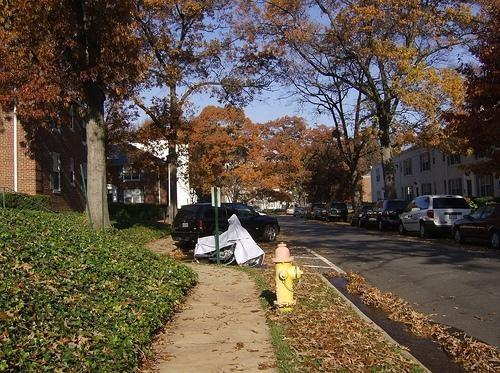car: (170, 201, 280, 250), (398, 196, 472, 239), (453, 203, 500, 248), (364, 198, 410, 232), (320, 202, 349, 222), (350, 205, 374, 227), (309, 204, 326, 219), (293, 208, 308, 218), (286, 206, 296, 216)
motorcycle: (197, 246, 262, 268)
truck: (174, 201, 283, 252)
